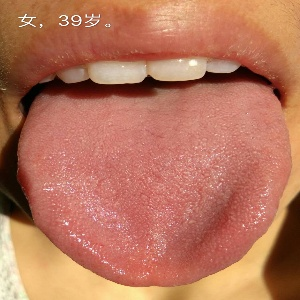st: (13, 97, 294, 292)
